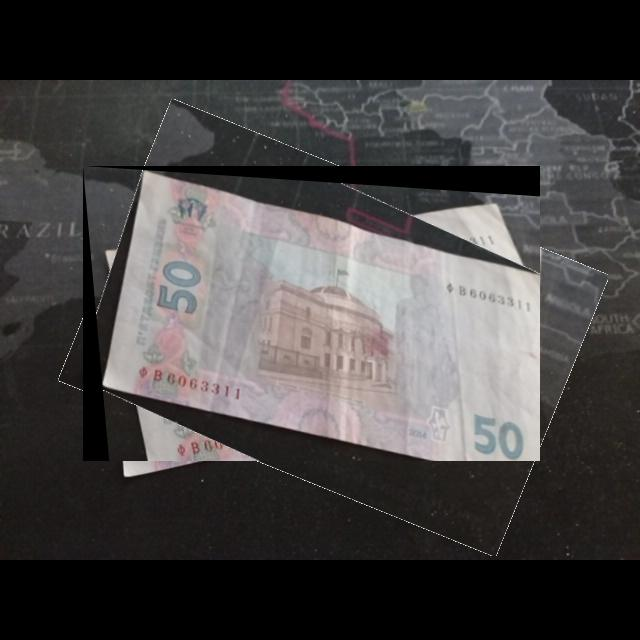50uah: (99, 169, 541, 462)
